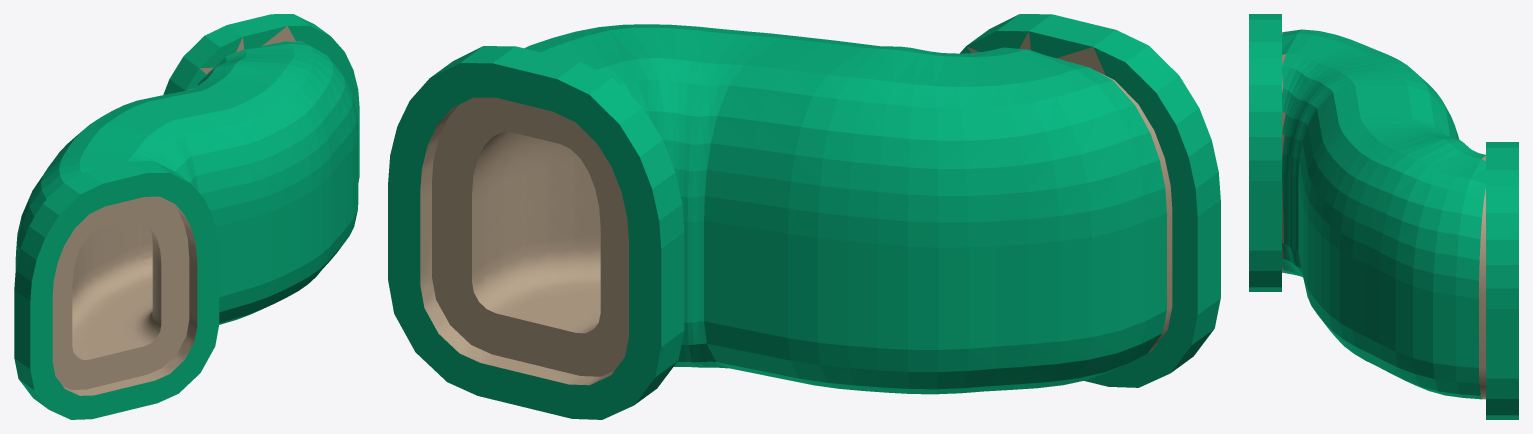
Rendered from TT_Dogleg_R_A.fbx.
3 views of the same model, side by side, from view 1: azimuth 30°, elevation 25°; view 2: azimuth 150°, elevation 25°; view 3: azimuth 270°, elevation 25° (orthographic). The views are drawn at different scales.
Visible parts, largest first — view 1: TT_Dogleg_R_A_LOD0; view 2: TT_Dogleg_R_A_LOD0; view 3: TT_Dogleg_R_A_LOD0.
Boxes of the visible parts, x1,y1,x2,y2 form: TT_Dogleg_R_A_LOD0: (14, 14, 359, 419); TT_Dogleg_R_A_LOD0: (388, 14, 1220, 419); TT_Dogleg_R_A_LOD0: (1249, 14, 1518, 419).
Bounding box in the file's own units: 800 × 400 × 410.
